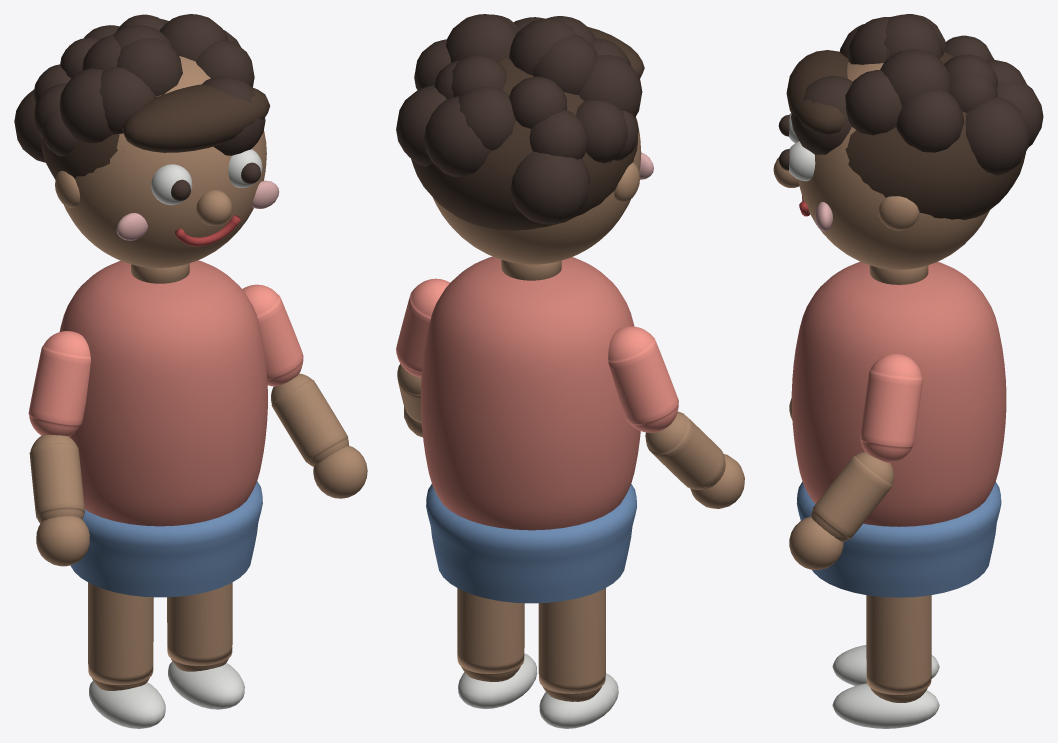
The model's file is kids.glb.
The picture shows the model from 3 angles, left to right: view 1: azimuth 30°, elevation 25°; view 2: azimuth 150°, elevation 25°; view 3: azimuth 270°, elevation 25°; orthographic projection. The views are drawn at different scales.
Visible parts, largest first — view 1: torso, head_mesh, head_mesh.001, legL_mesh, legR_mesh, forearmR_mesh, forearmL_mesh, upperarmL, upperarmR; view 2: torso, head_mesh, head_mesh.001, legL_mesh, legR_mesh, upperarmL, forearmL_mesh, upperarmR, forearmR_mesh; view 3: torso, head_mesh, head_mesh.001, legR_mesh, forearmR_mesh, upperarmR, legL_mesh.
Boxes of the visible parts, x1=… form: torso: x1=59, y1=260, x2=267, y2=597; head_mesh: x1=14, y1=14, x2=279, y2=267; head_mesh.001: x1=40, y1=77, x2=269, y2=179; legL_mesh: x1=88, y1=582, x2=165, y2=728; legR_mesh: x1=167, y1=582, x2=244, y2=709; forearmR_mesh: x1=271, y1=373, x2=367, y2=498; forearmL_mesh: x1=29, y1=435, x2=89, y2=566; upperarmL: x1=28, y1=331, x2=90, y2=436; upperarmR: x1=242, y1=284, x2=303, y2=386; torso: x1=420, y1=256, x2=640, y2=603; head_mesh: x1=396, y1=14, x2=653, y2=264; head_mesh.001: x1=411, y1=27, x2=644, y2=230; legL_mesh: x1=538, y1=588, x2=618, y2=728; legR_mesh: x1=457, y1=588, x2=537, y2=708; upperarmL: x1=608, y1=326, x2=678, y2=432; forearmL_mesh: x1=645, y1=411, x2=744, y2=508; upperarmR: x1=396, y1=278, x2=449, y2=377; forearmR_mesh: x1=397, y1=364, x2=422, y2=437; torso: x1=791, y1=261, x2=1006, y2=597; head_mesh: x1=773, y1=14, x2=1043, y2=269; head_mesh.001: x1=786, y1=50, x2=1025, y2=219; legR_mesh: x1=832, y1=595, x2=939, y2=728; forearmR_mesh: x1=789, y1=451, x2=893, y2=569; upperarmR: x1=860, y1=353, x2=922, y2=463; legL_mesh: x1=832, y1=595, x2=939, y2=685.
Bounding box in the file's own units: 0.5732 × 1.15 × 0.4149.
